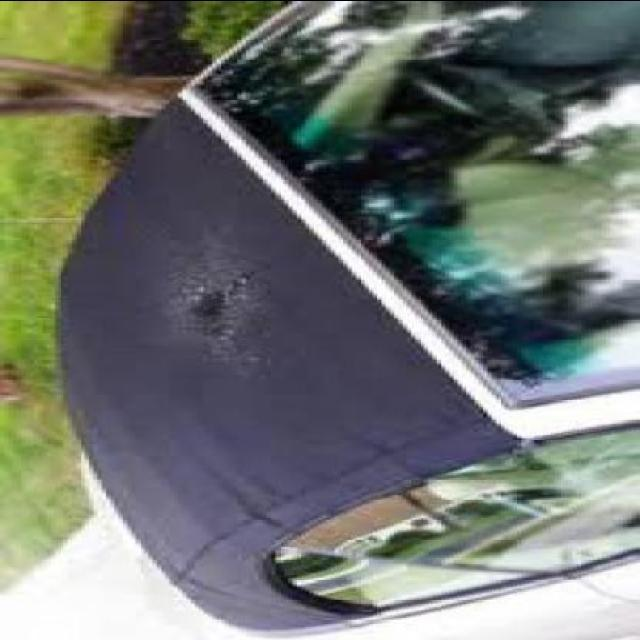roof-dent: (63, 172, 466, 474)
